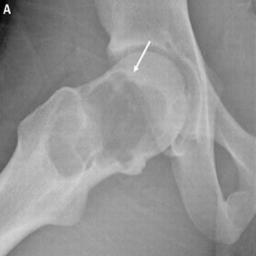cancer: (46, 52, 186, 182)
